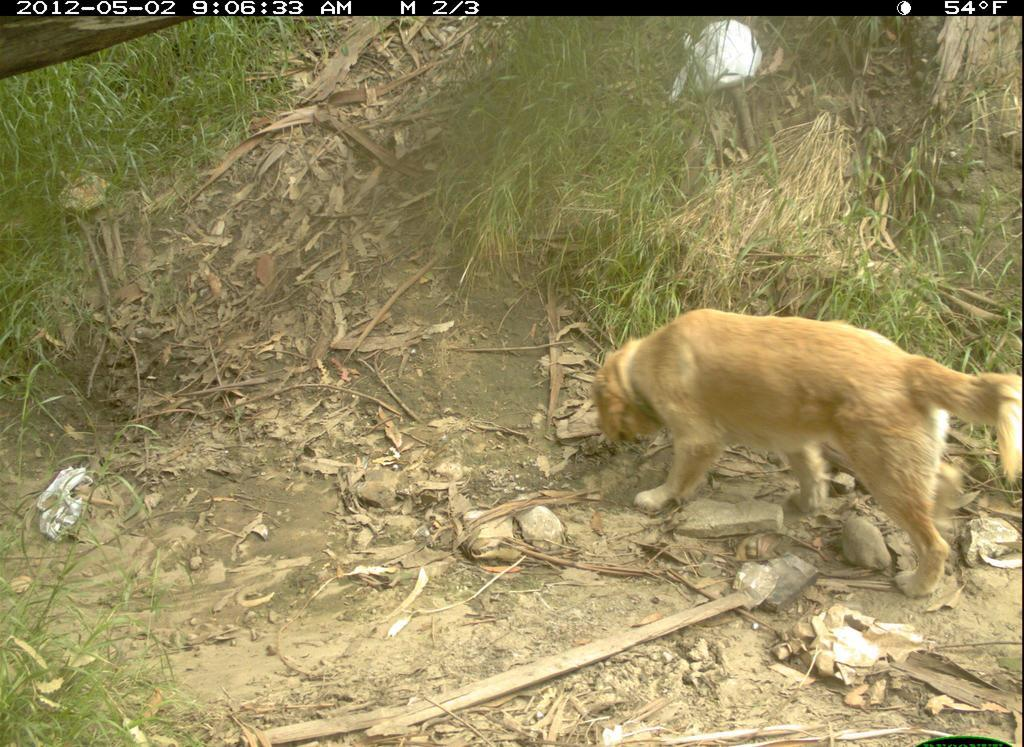dog: (583, 292, 1024, 601)
